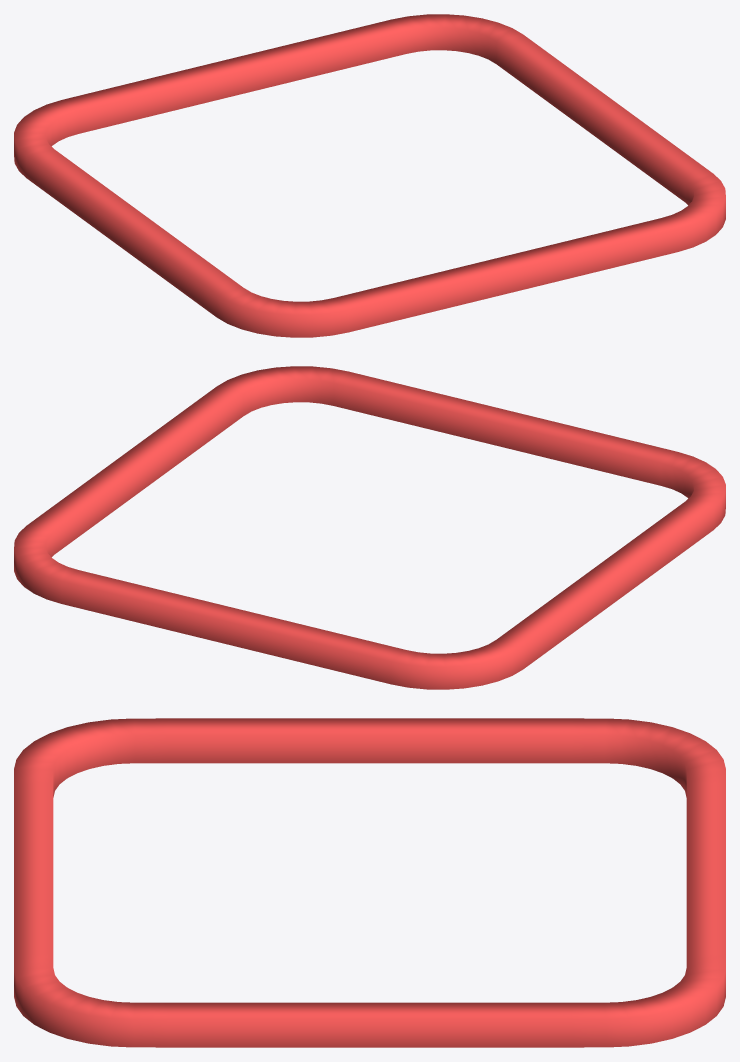
File: shayan_rim.gltf
The picture shows the model from 3 angles, top to bottom: view 1: azimuth 30°, elevation 25°; view 2: azimuth 150°, elevation 25°; view 3: azimuth 270°, elevation 25°; orthographic projection. The views are drawn at different scales.
Visible parts, largest first — view 1: Plane; view 2: Plane; view 3: Plane.
Boxes of the visible parts, x1=… form: Plane: x1=14, y1=14, x2=725, y2=337; Plane: x1=14, y1=366, x2=725, y2=689; Plane: x1=14, y1=718, x2=725, y2=1047.
Size of the model in its own units: 1.37 by 0.0596 by 1.37.
